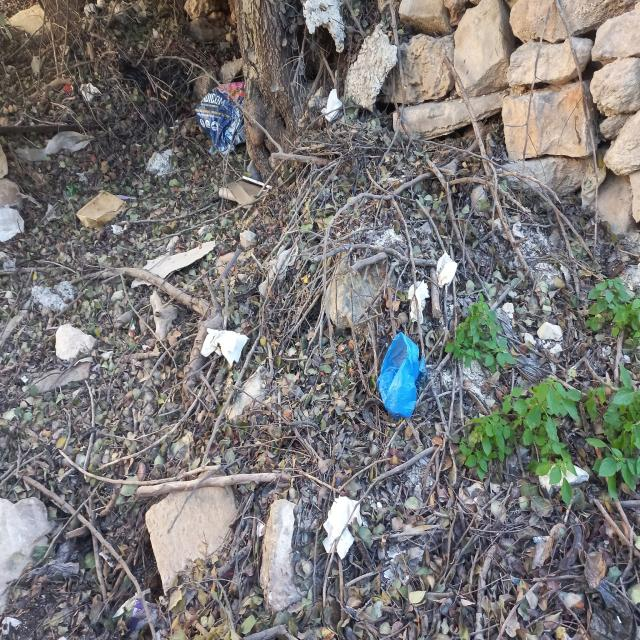Bottle cap: (65, 85, 71, 93)
Other litter: (132, 240, 218, 288), (320, 493, 364, 558), (198, 328, 250, 366), (407, 279, 430, 323), (436, 250, 458, 289), (80, 81, 101, 104)
Other plastic: (0, 497, 56, 616), (14, 131, 95, 162), (0, 203, 25, 244)
Paper: (76, 190, 126, 230)
Plastic bag - wrapper: (379, 331, 433, 421), (195, 79, 247, 156), (128, 598, 149, 629)
